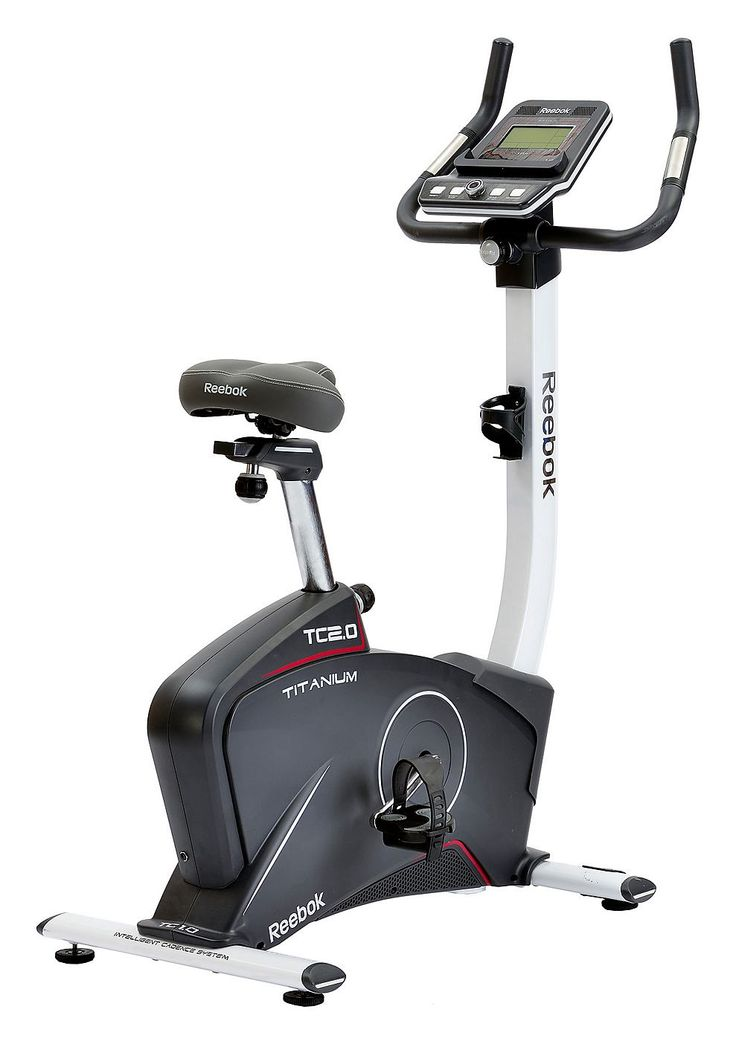gym_bike: (40, 44, 687, 996)
